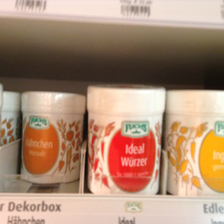spices: (86, 83, 167, 196), (166, 88, 224, 195), (20, 91, 84, 184)
